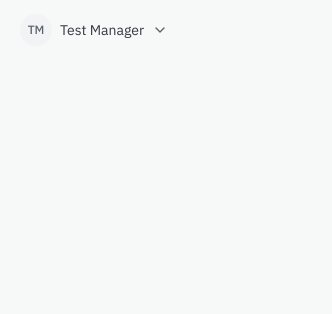
Test: UserMenu › shows the actor: name, mono username, and role chips from the identity
What coordinates should you click on to do the following:
click the button named "user menu"
I would click on:
 (94, 30)
Its box is [12,12,176,48].
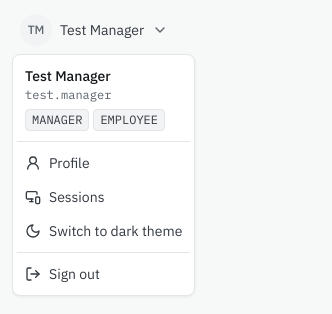
Expected: the text "test.manager" is shown, [25,87,111,102]
Expected: the text "MANAGER" is shown, [25,109,89,131]
Expected: the text "EMPLOYEE" is shown, [93,109,165,131]
